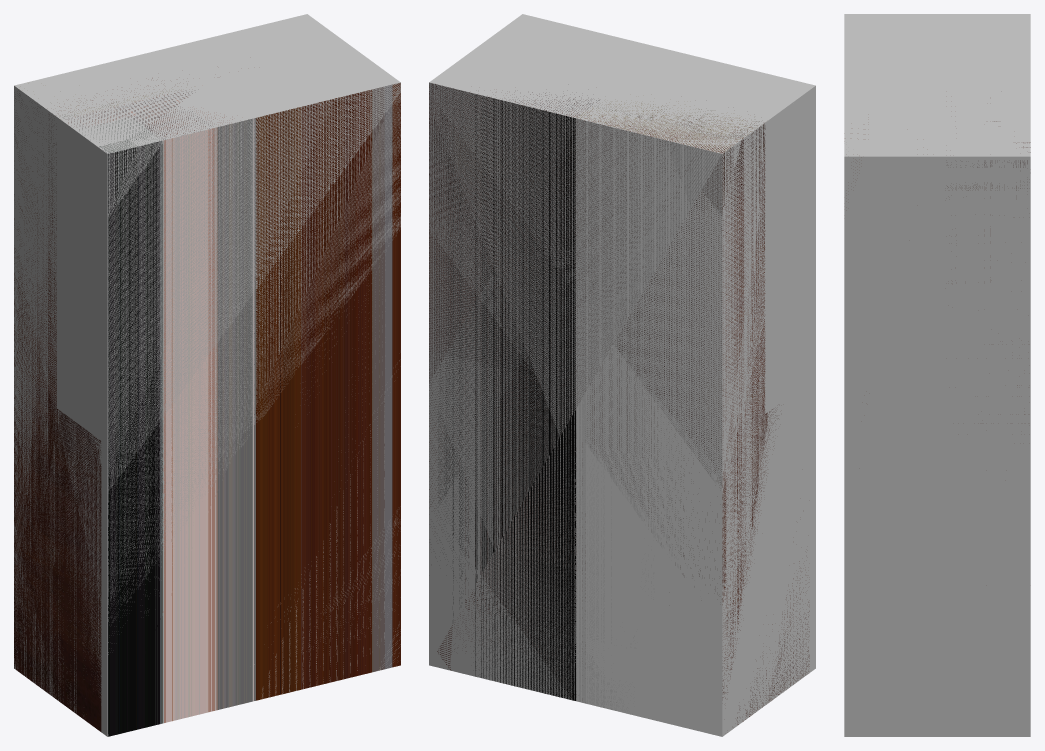
Rendered from waiters_station.DAE.
The picture shows the model from 3 angles, left to right: view 1: azimuth 30°, elevation 25°; view 2: azimuth 150°, elevation 25°; view 3: azimuth 270°, elevation 25°; orthographic projection.
Visible parts, largest first — view 1: colbox-1, bounds, waiters_station100; view 2: bounds, colbox-1, waiters_station100; view 3: bounds.
Part boxes in pixels (x1,y1,x2,y2): colbox-1: (64,83,400,736); bounds: (14,14,400,736); waiters_station100: (14,78,158,731); bounds: (429,14,815,736); colbox-1: (431,87,759,736); waiters_station100: (429,83,809,724); bounds: (844,14,1030,736).
Size of the model in its own units: 129 by 71.43 by 245.
